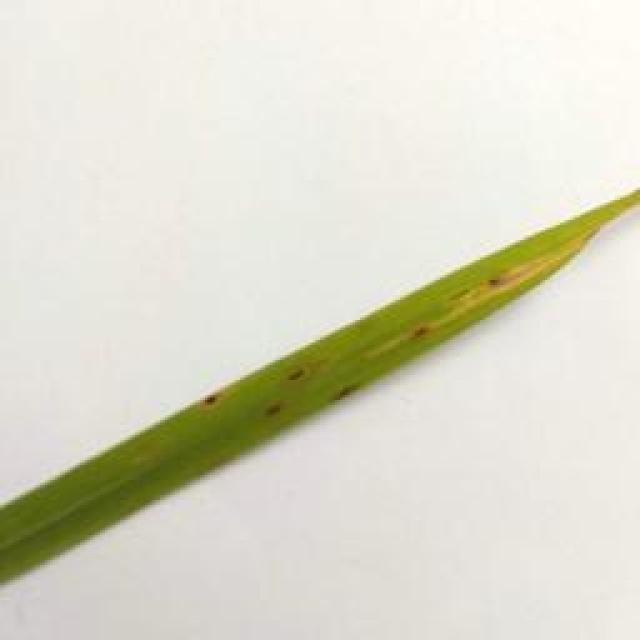Brown_Spot: (475, 268, 510, 304), (194, 391, 238, 416), (334, 371, 363, 403), (406, 322, 434, 347), (287, 367, 310, 388), (251, 407, 277, 419)
